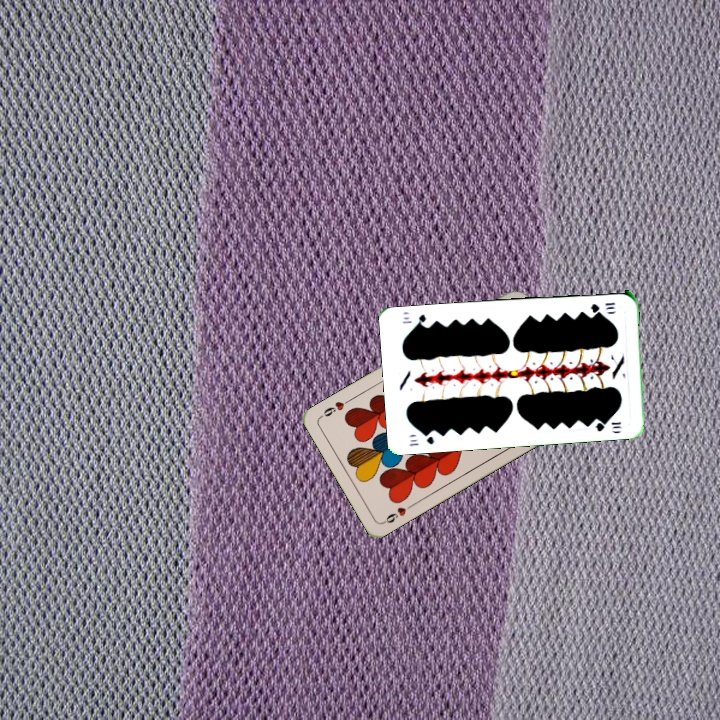G10: (405, 428, 437, 448), (587, 298, 617, 316)
H9: (379, 500, 416, 526)
